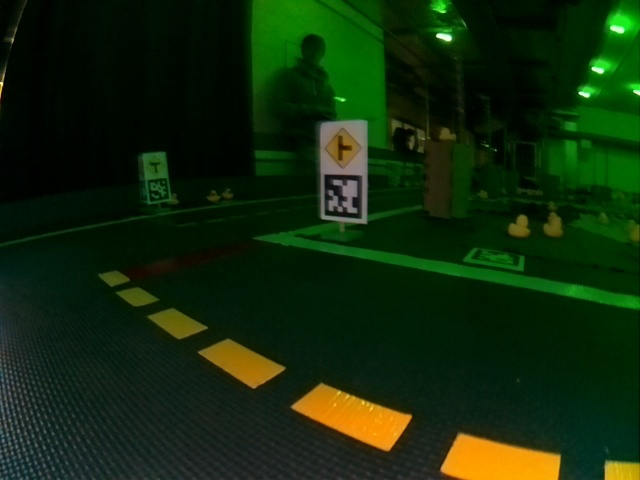Duckie: (510, 215, 530, 235), (545, 218, 562, 235), (207, 190, 217, 200), (223, 189, 233, 198), (170, 195, 178, 203)
Intersection sign: (325, 127, 362, 168), (146, 155, 165, 176)
QR code: (324, 176, 362, 219), (465, 249, 525, 272), (147, 178, 169, 202)
